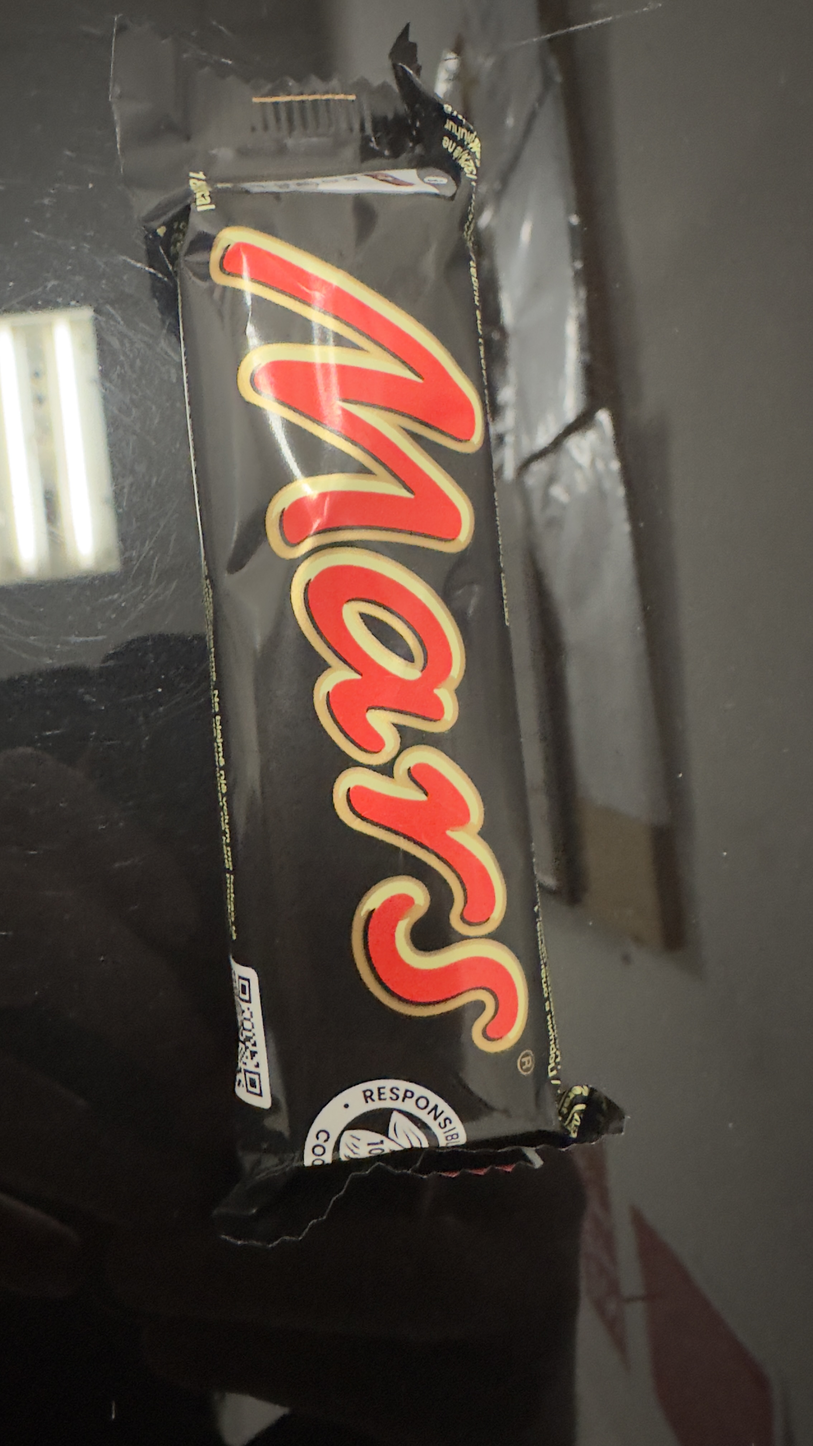MARS: (145, 97, 477, 1225)
